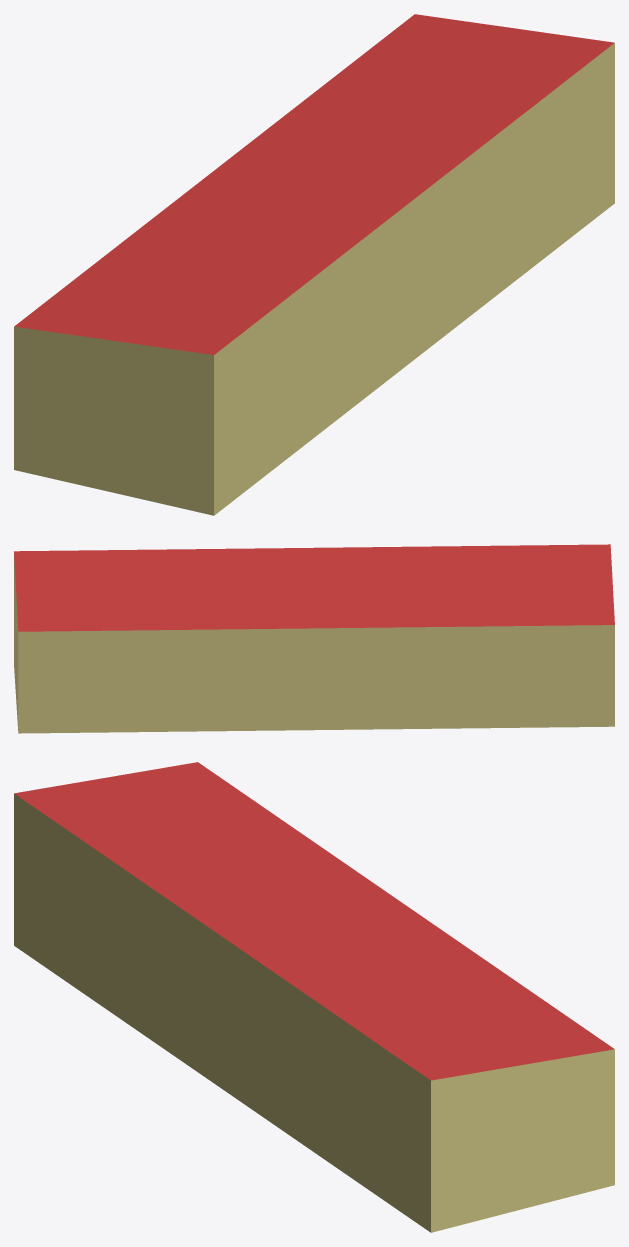
3 renders of one model, top to bottom at view 1: azimuth 30°, elevation 25°; view 2: azimuth 150°, elevation 25°; view 3: azimuth 270°, elevation 25°, orthographic. The views are drawn at different scales.
Bounding box in the file's own units: 29.04 × 22.02 × 6.16.
